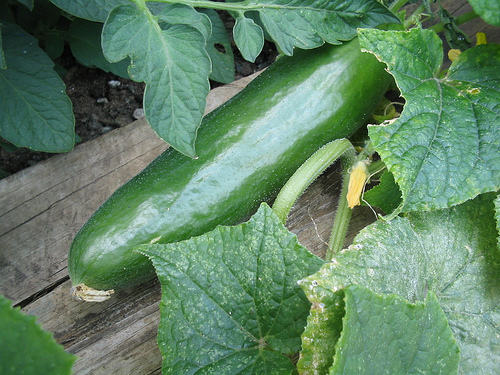cucumber: (69, 11, 404, 308)
